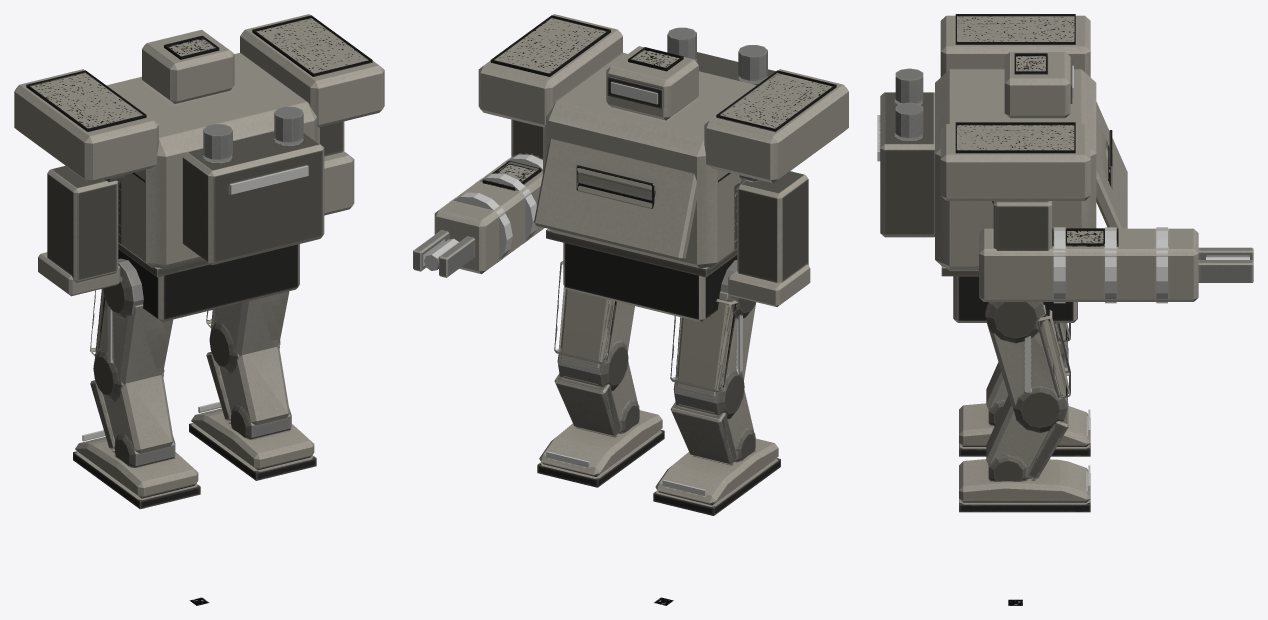
The model's file is ord_stormcaller.fbx.
The picture shows the model from 3 angles, left to right: view 1: azimuth 30°, elevation 25°; view 2: azimuth 150°, elevation 25°; view 3: azimuth 270°, elevation 25°; orthographic projection.
Parts seen in each view (by area): view 1: torso_bar, base_bar, thighL_bar, shinL_bar, shinR_bar, footL_bar, footR_bar, thighR_bar, torso_glow_power_bar; view 2: torso_bar, thighL_bar, base_bar, thighR_bar, footR_bar, footL_bar, shinR_bar, shinL_bar, torso_glow_power_bar; view 3: torso_bar, thighR_bar, footR_bar, shinR_bar, footL_bar, torso_glow_power_bar, base_bar, shinL_bar.
Boxes of the visible parts, x1=… form: torso_bar: x1=14, y1=14, x2=384, y2=296; base_bar: x1=118, y1=244, x2=299, y2=321; thighL_bar: x1=90, y1=258, x2=173, y2=401; shinL_bar: x1=90, y1=375, x2=175, y2=467; shinR_bar: x1=206, y1=346, x2=291, y2=439; footL_bar: x1=73, y1=436, x2=200, y2=509; footR_bar: x1=189, y1=408, x2=316, y2=480; thighR_bar: x1=206, y1=291, x2=289, y2=373; torso_glow_power_bar: x1=229, y1=165, x2=308, y2=194; torso_bar: x1=413, y1=14, x2=848, y2=306; thighL_bar: x1=670, y1=260, x2=756, y2=418; base_bar: x1=563, y1=242, x2=737, y2=322; thighR_bar: x1=554, y1=261, x2=634, y2=390; footR_bar: x1=537, y1=410, x2=664, y2=487; footL_bar: x1=653, y1=438, x2=780, y2=515; shinR_bar: x1=554, y1=362, x2=639, y2=435; shinL_bar: x1=670, y1=390, x2=755, y2=464; torso_glow_power_bar: x1=451, y1=154, x2=542, y2=262; torso_bar: x1=880, y1=14, x2=1253, y2=301; thighR_bar: x1=985, y1=302, x2=1070, y2=432; footR_bar: x1=959, y1=459, x2=1090, y2=512; shinR_bar: x1=986, y1=395, x2=1068, y2=481; footL_bar: x1=959, y1=403, x2=1090, y2=456; torso_glow_power_bar: x1=877, y1=115, x2=1167, y2=303; base_bar: x1=953, y1=276, x2=1077, y2=322; shinL_bar: x1=986, y1=347, x2=1068, y2=425.
Size of the model in its own units: 465 by 814 by 514.
2 materials, 2 textured.
